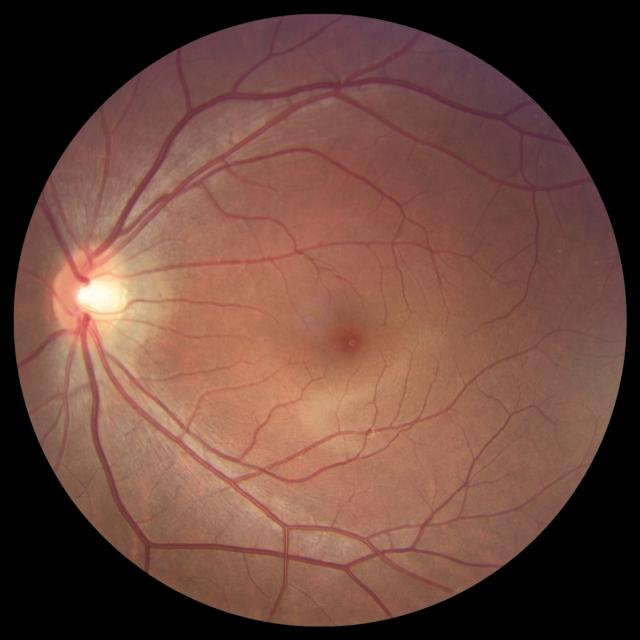OC: (76, 275, 118, 318)
OD: (50, 244, 129, 344)
